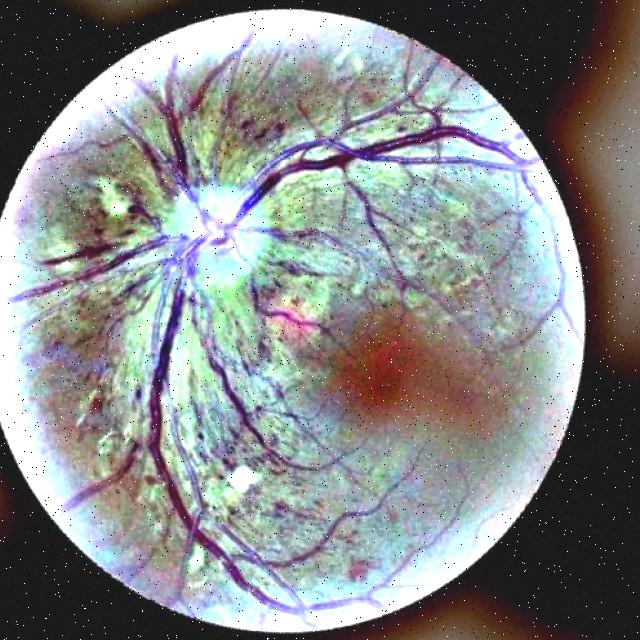Macula: (317, 321, 443, 435)
Nerves: (83, 68, 515, 632)
Optic Disk: (126, 152, 309, 310)
